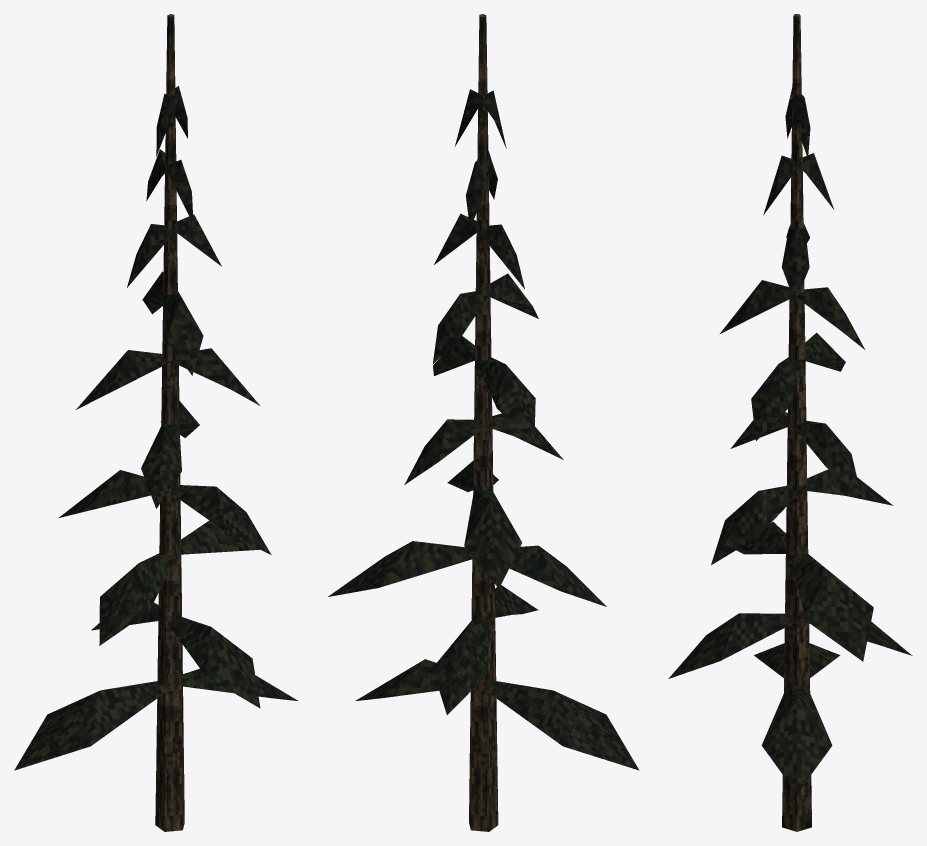
File: ENV_F_Spruce_0.fbx
3 renders of one model, left to right at view 1: azimuth 30°, elevation 25°; view 2: azimuth 150°, elevation 25°; view 3: azimuth 270°, elevation 25°, orthographic.
Visible parts, largest first — view 1: PL_ENV_F_Spruce_0; view 2: PL_ENV_F_Spruce_0; view 3: PL_ENV_F_Spruce_0.
Part boxes in pixels (x1,y1,x2,y2): PL_ENV_F_Spruce_0: [14, 14, 297, 831]; PL_ENV_F_Spruce_0: [328, 14, 639, 831]; PL_ENV_F_Spruce_0: [668, 14, 912, 831].
Size of the model in its own units: 478 by 1300 by 356.
Materials: 2 (2 with a texture image).
